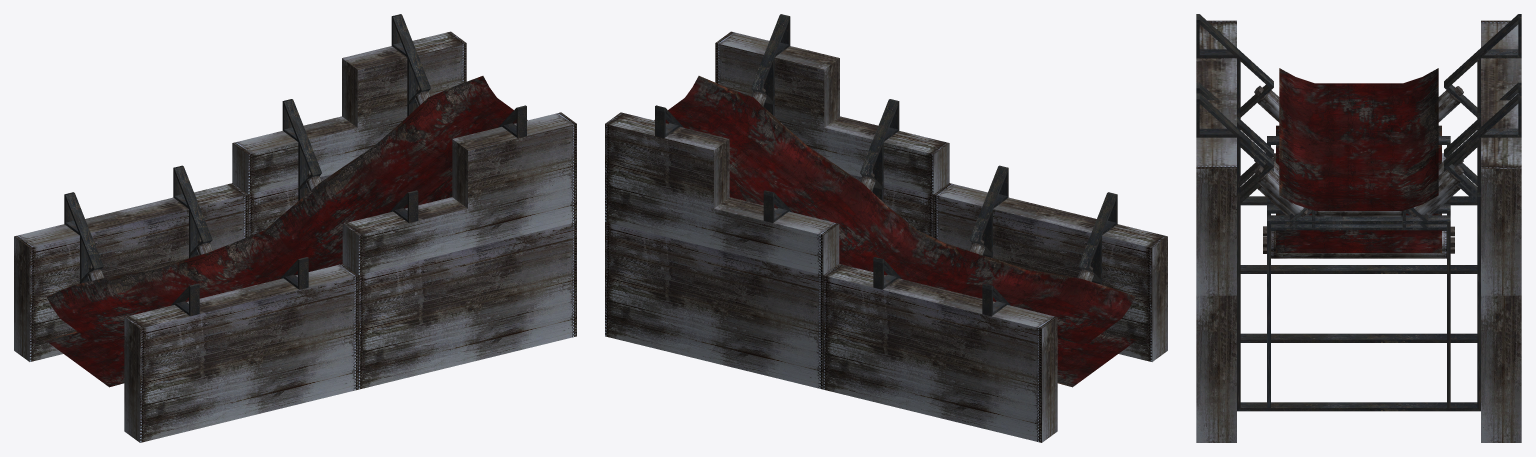
The model's file is conveyor_section_05.DAE.
3 views of the same model, side by side, from view 1: azimuth 30°, elevation 25°; view 2: azimuth 150°, elevation 25°; view 3: azimuth 270°, elevation 25° (orthographic). The views are drawn at different scales.
Visible parts, largest first — view 1: Object067, Object068, Box028; view 2: Object067, Object068, Box028; view 3: Object067, Object068, Box028.
Part boxes in pixels (x1,y1,x2,y2): Object067: [14, 31, 576, 442]; Object068: [45, 76, 527, 387]; Box028: [64, 14, 526, 316]; Object067: [605, 31, 1167, 442]; Object068: [654, 76, 1136, 387]; Box028: [655, 14, 1117, 316]; Object067: [1196, 20, 1521, 442]; Object068: [1276, 68, 1441, 252]; Box028: [1196, 14, 1521, 411].
Size of the model in its own units: 8 by 4 by 4.24.
